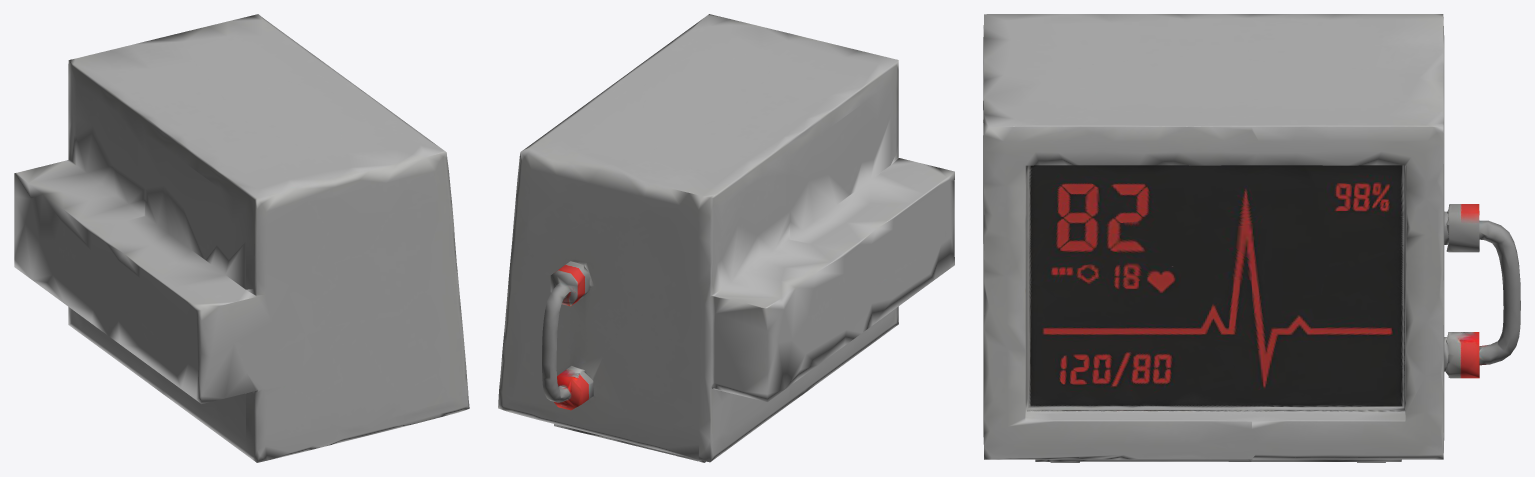
The model's file is MONITOR DE PULSO.fbx.
3 views of the same model, side by side, from view 1: azimuth 30°, elevation 25°; view 2: azimuth 150°, elevation 25°; view 3: azimuth 270°, elevation 25° (orthographic). The views are drawn at different scales.
Parts seen in each view (by area): view 1: tripo_node_01f81849; view 2: tripo_node_01f81849; view 3: tripo_node_01f81849.
Part boxes in pixels (x1,y1,x2,y2): tripo_node_01f81849: (14, 14, 469, 462); tripo_node_01f81849: (498, 14, 954, 462); tripo_node_01f81849: (983, 14, 1520, 462).
Bounding box in the file's own units: 0.7021 × 0.7238 × 0.9999.
Materials: 1 (1 with a texture image).
